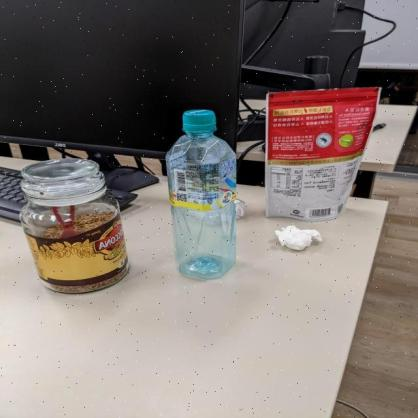bottle: (166, 102, 246, 283)
cap: (183, 106, 222, 138)
label: (159, 159, 240, 207)
